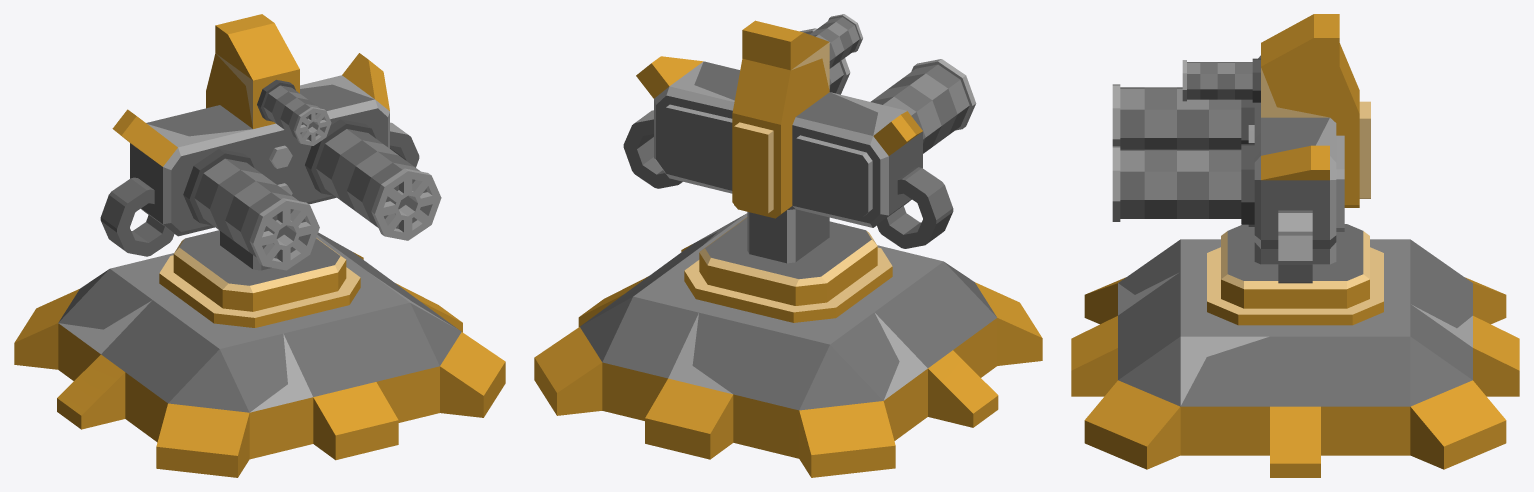
The model's file is tower_gatling_yellow_3.fbx.
3 renders of one model, left to right at view 1: azimuth 30°, elevation 25°; view 2: azimuth 150°, elevation 25°; view 3: azimuth 270°, elevation 25°, orthographic. The views are drawn at different scales.
Parts seen in each view (by area): view 1: tower_gatling_yellow_3, top_gatling_yellow_3; view 2: tower_gatling_yellow_3, top_gatling_yellow_3; view 3: tower_gatling_yellow_3, top_gatling_yellow_3.
Part boxes in pixels (<box>): tower_gatling_yellow_3: <box>14,232,505,477</box>; top_gatling_yellow_3: <box>100,14,441,327</box>; tower_gatling_yellow_3: <box>534,213,1042,477</box>; top_gatling_yellow_3: <box>623,14,976,322</box>; tower_gatling_yellow_3: <box>1071,239,1519,477</box>; top_gatling_yellow_3: <box>1112,14,1383,325</box>.
Size of the model in its own units: 173 by 146 by 168.
